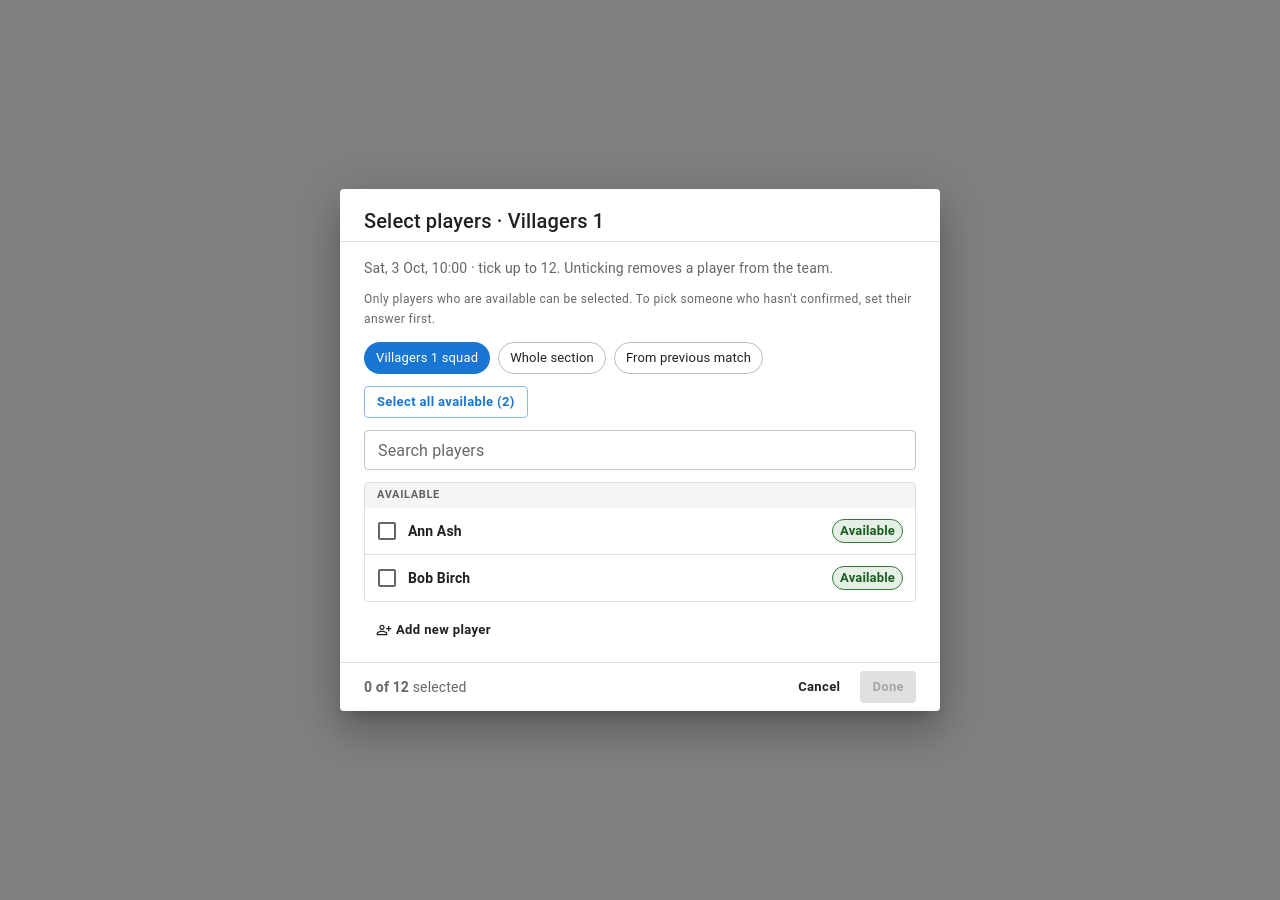
it: SelectPlayersDialog › Done › a failure without rejections shows its message
Click the checkbox labelled "Ann Ash" at [418, 531], box [375,519,462,543]
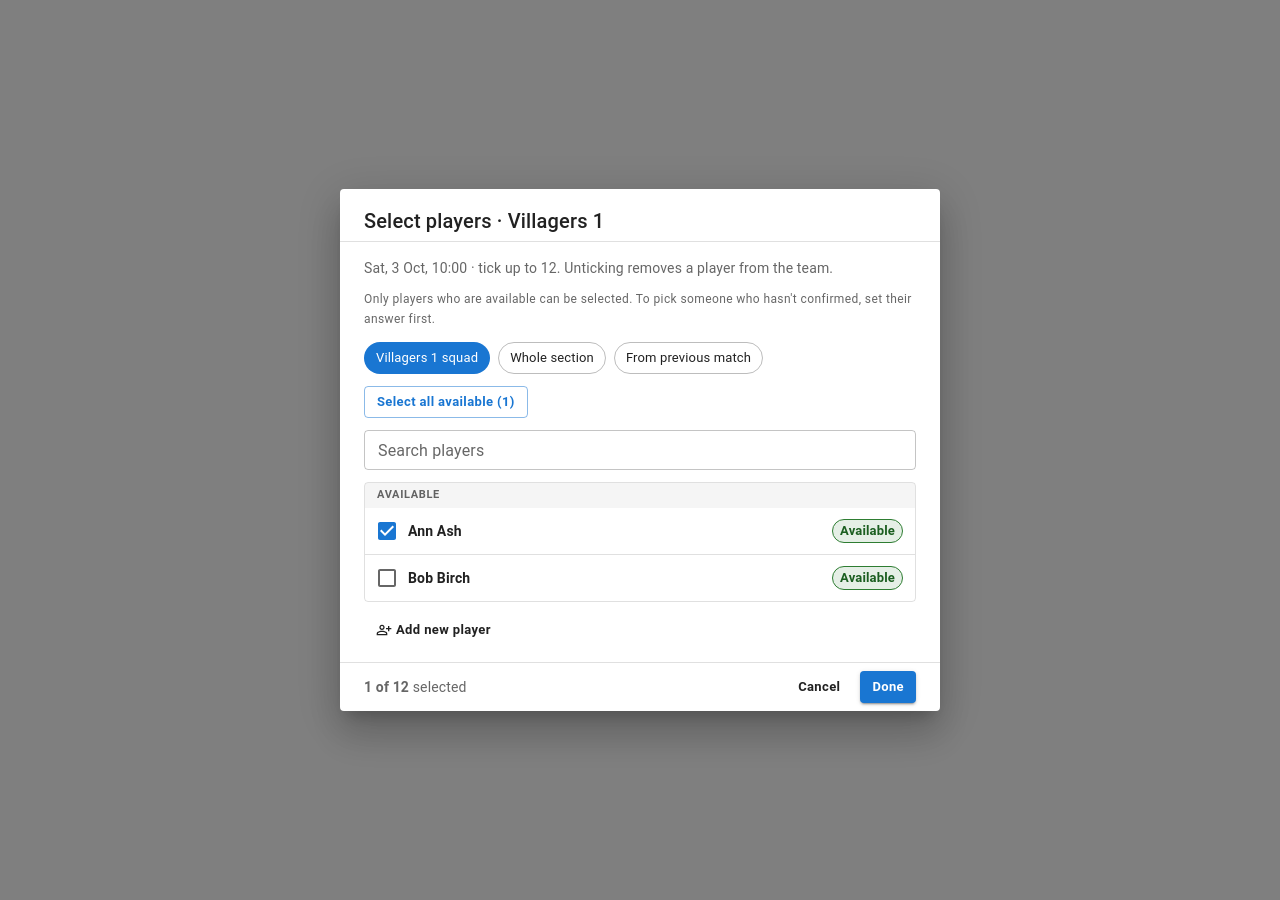
Click the button "Done" at [888, 687], box [860,671,916,703]
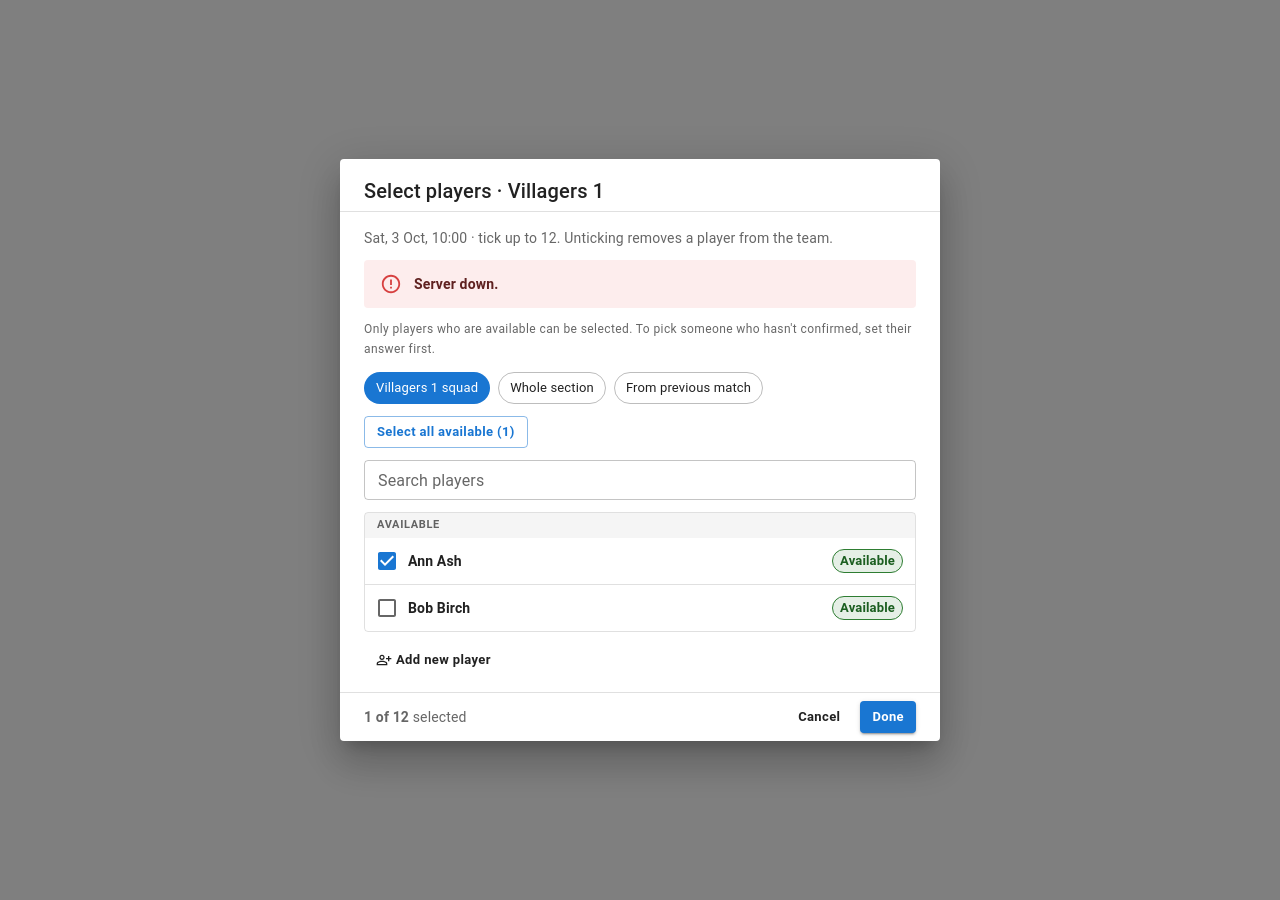
Result: the text "Server down." is shown at [414,274,498,294]
